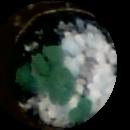Basil: (35, 67, 71, 92), (69, 96, 92, 125), (32, 47, 62, 68), (54, 75, 75, 103), (17, 65, 40, 87)
